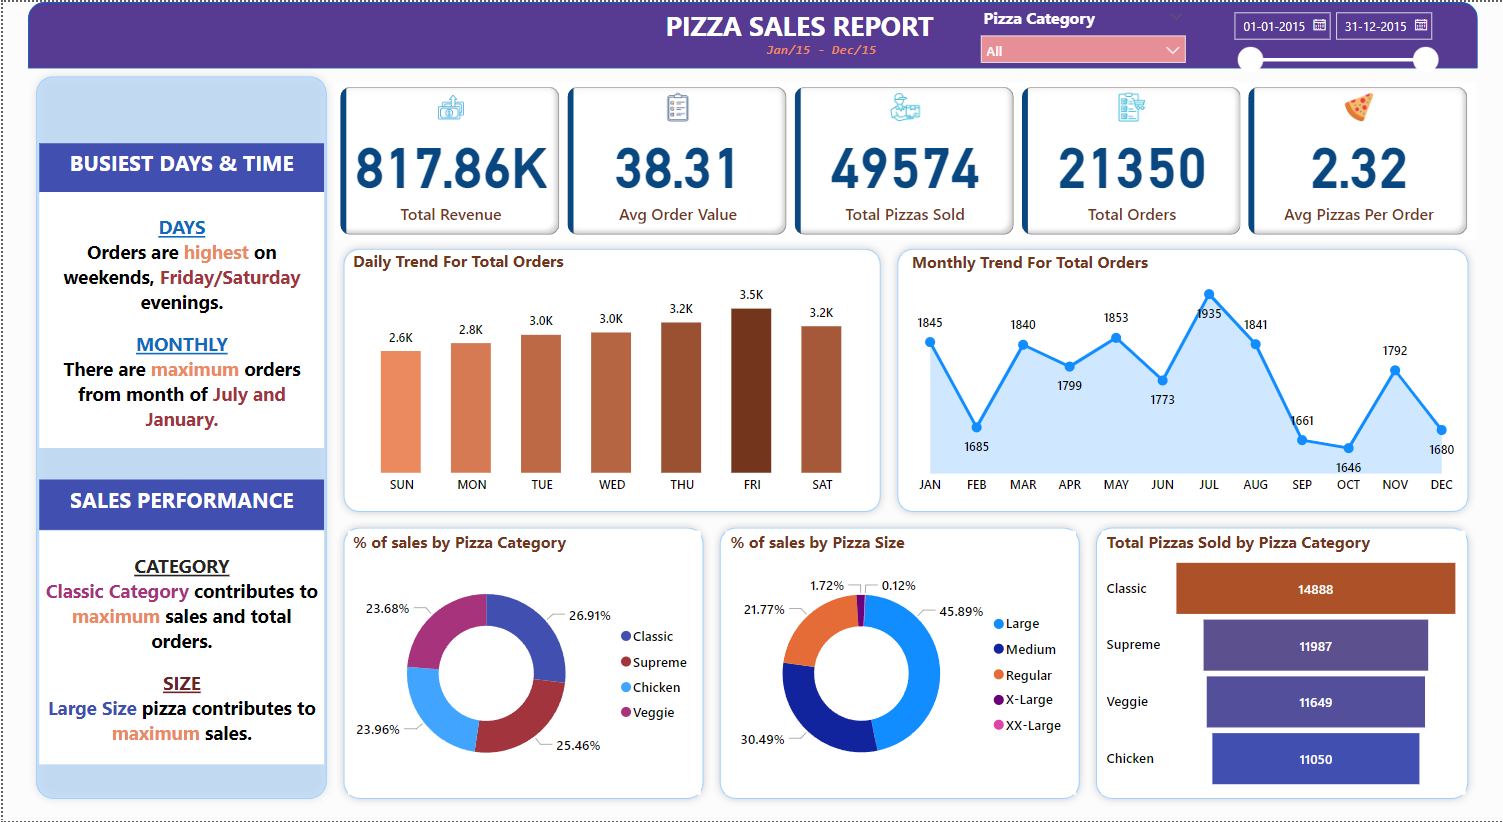

Layout of this report page (visuals, bound fields, positions):
{"tool":"powerbi","page":{"name":"Home","canvas":[1500,820],"ordinal":0},"visuals":[{"type":"cardVisual","fields":{"Data":["pizza_sales.Total Revenue","pizza_sales.Avg Order Value","pizza_sales.Total Pizzas Sold","pizza_sales.Total Orders","pizza_sales.Avg Pizzas Per Order"]},"box":[332.5,80.4,1140.5,158.1],"z":0},{"type":"shape","box":[24.5,0,1449.9,66.8],"z":1000},{"type":"textbox","box":[485.1,0,622.7,50.4],"z":2000},{"type":"textbox","box":[749.5,32.7,136.3,34.1],"z":3000},{"type":"shape","box":[332.5,238.5,553.2,279.3],"z":4000},{"type":"columnChart","title":"Daily Trend For Total Orders","fields":{"Category":["pizza_sales.Order Day"],"Y":["pizza_sales.Total Orders"]},"box":[344.8,248,528.7,253.5],"z":5000},{"type":"shape","box":[25.3,66.2,306.8,738.7],"z":6000},{"type":"shape","box":[885.7,238.5,587.3,279.3],"z":7000},{"type":"areaChart","title":"Monthly Trend For Total Orders","fields":{"Category":["pizza_sales.Order Month"],"Y":["pizza_sales.Total Orders"]},"box":[903.4,249.4,558.7,252.1],"z":8000},{"type":"shape","box":[332.5,517.8,376.1,287.5],"z":9000},{"type":"shape","box":[708.6,517.8,376.1,287.5],"z":10000},{"type":"shape","box":[1084.7,517.8,388.4,287.5],"z":11000},{"type":"donutChart","title":"% of sales  by Pizza Category","fields":{"Category":["pizza_sales.pizza_category"],"Y":["pizza_sales.Total Revenue"]},"box":[344.8,528.7,352.9,264],"z":12000},{"type":"donutChart","title":"% of sales  by Pizza Size","fields":{"Category":["pizza_sales.pizza_size"],"Y":["pizza_sales.Total Revenue"]},"box":[722.2,528.7,350.2,264.4],"z":13000},{"type":"funnel","title":"Total Pizzas Sold by Pizza Category","fields":{"Category":["pizza_sales.pizza_category"],"Y":["pizza_sales.Total Pizzas Sold"]},"box":[1098.3,528.7,363.8,264.4],"z":14000},{"type":"textbox","box":[36.1,477.6,285.1,50.5],"z":15000},{"type":"slicer","fields":{"Values":["pizza_sales.order_date"]},"box":[1218.2,0,224.8,80.4],"z":16000},{"type":"slicer","fields":{"Values":["pizza_sales.pizza_category"]},"box":[967.5,0,224.8,66.8],"z":17000},{"type":"textbox","box":[36.1,140.8,285.1,49.3],"z":18000},{"type":"textbox","box":[36.1,190.1,285.1,256.3],"z":21000},{"type":"textbox","box":[36.1,528.2,285.1,233.4],"z":22000}]}

Visuals, with their boxes in screenshot pixels (x1, y1, x2, y2), scaled from the page's 1500x820 canvas onto the 1503x822 screenshot:
cardVisual - pizza_sales.Total Revenue x pizza_sales.Avg Order Value: box=[333, 81, 1476, 239]
shape: box=[25, 0, 1477, 67]
textbox: box=[486, 0, 1110, 51]
textbox: box=[751, 33, 888, 67]
shape: box=[333, 239, 887, 519]
"Daily Trend For Total Orders" columnChart: box=[345, 249, 875, 503]
shape: box=[25, 66, 333, 807]
shape: box=[887, 239, 1476, 519]
"Monthly Trend For Total Orders" areaChart: box=[905, 250, 1465, 503]
shape: box=[333, 519, 710, 807]
shape: box=[710, 519, 1087, 807]
shape: box=[1087, 519, 1476, 807]
"% of sales  by Pizza Category" donutChart: box=[345, 530, 699, 795]
"% of sales  by Pizza Size" donutChart: box=[724, 530, 1075, 795]
"Total Pizzas Sold by Pizza Category" funnel: box=[1100, 530, 1465, 795]
textbox: box=[36, 479, 322, 529]
slicer - pizza_sales.order_date: box=[1221, 0, 1446, 81]
slicer - pizza_sales.pizza_category: box=[969, 0, 1195, 67]
textbox: box=[36, 141, 322, 191]
textbox: box=[36, 191, 322, 447]
textbox: box=[36, 529, 322, 763]
